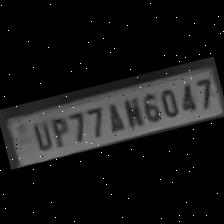0: (154, 83, 180, 118)
4: (172, 78, 198, 114)
6: (136, 87, 161, 123)
7: (82, 101, 108, 138), (63, 106, 89, 142), (190, 74, 216, 110)
A: (99, 97, 125, 133)
N: (118, 92, 144, 129)
P: (44, 112, 71, 148)
U: (26, 116, 55, 152)
